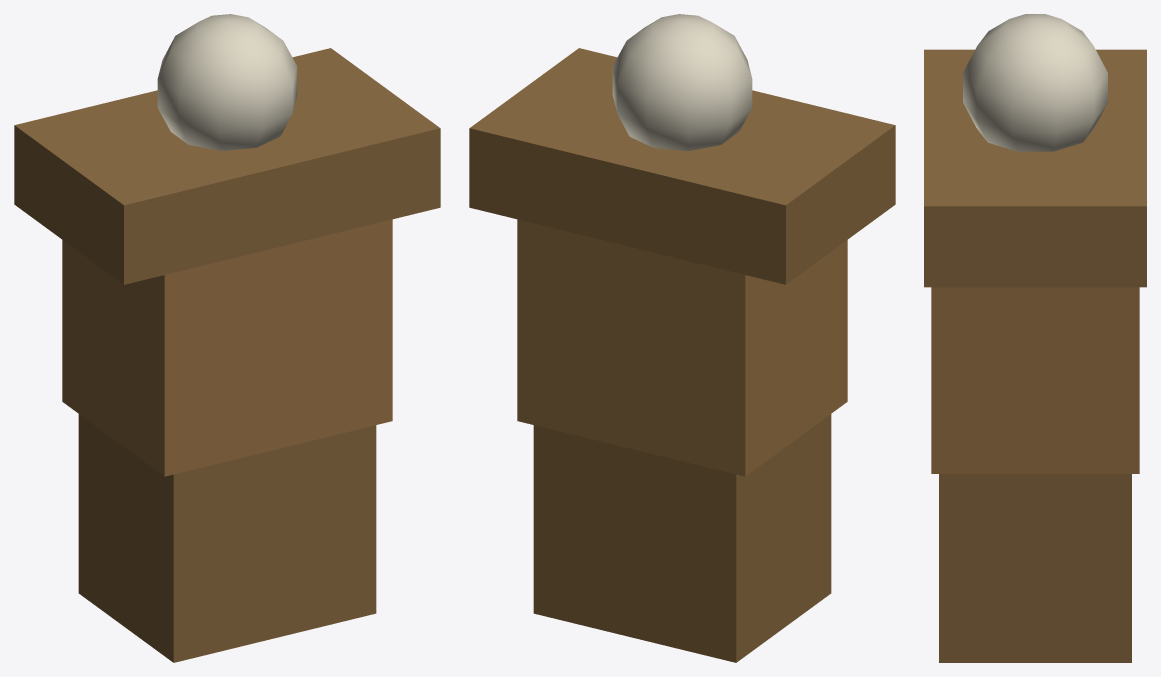
The model's file is ti_xiu.glb.
3 renders of one model, left to right at view 1: azimuth 30°, elevation 25°; view 2: azimuth 150°, elevation 25°; view 3: azimuth 270°, elevation 25°, orthographic.
Visible parts, largest first — view 1: _MeshInstance3D_15, _MeshInstance3D_16, _MeshInstance3D_14, _MeshInstance3D_17; view 2: _MeshInstance3D_15, _MeshInstance3D_16, _MeshInstance3D_14, _MeshInstance3D_17; view 3: _MeshInstance3D_16, _MeshInstance3D_15, _MeshInstance3D_14, _MeshInstance3D_17.
Part boxes in pixels (left/top/right/bottom): _MeshInstance3D_15: left=62, top=219, right=392, bottom=476; _MeshInstance3D_16: left=14, top=48, right=440, bottom=284; _MeshInstance3D_14: left=78, top=414, right=376, bottom=662; _MeshInstance3D_17: left=157, top=14, right=297, bottom=150; _MeshInstance3D_15: left=517, top=219, right=847, bottom=476; _MeshInstance3D_16: left=469, top=48, right=895, bottom=284; _MeshInstance3D_14: left=533, top=414, right=831, bottom=662; _MeshInstance3D_17: left=612, top=14, right=752, bottom=150; _MeshInstance3D_16: left=924, top=49, right=1146, bottom=287; _MeshInstance3D_15: left=931, top=287, right=1139, bottom=473; _MeshInstance3D_14: left=939, top=474, right=1131, bottom=662; _MeshInstance3D_17: left=963, top=14, right=1107, bottom=151.
Size of the model in its own units: 0.5 by 0.88 by 0.3.
